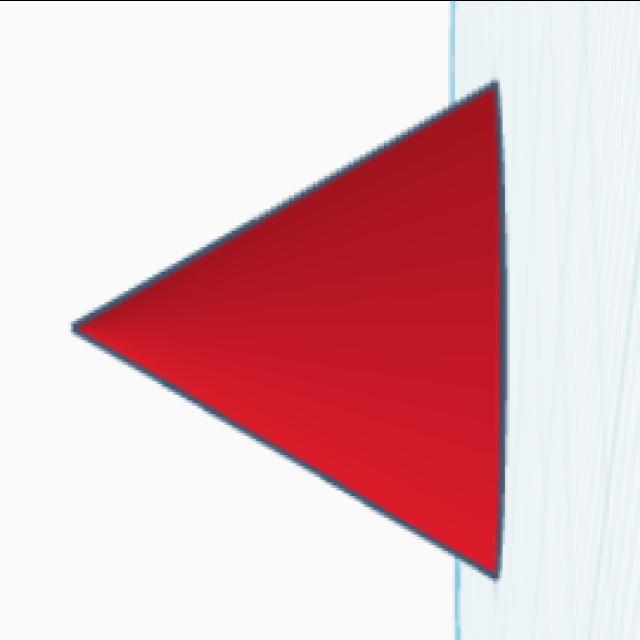cone: (62, 70, 518, 588)
